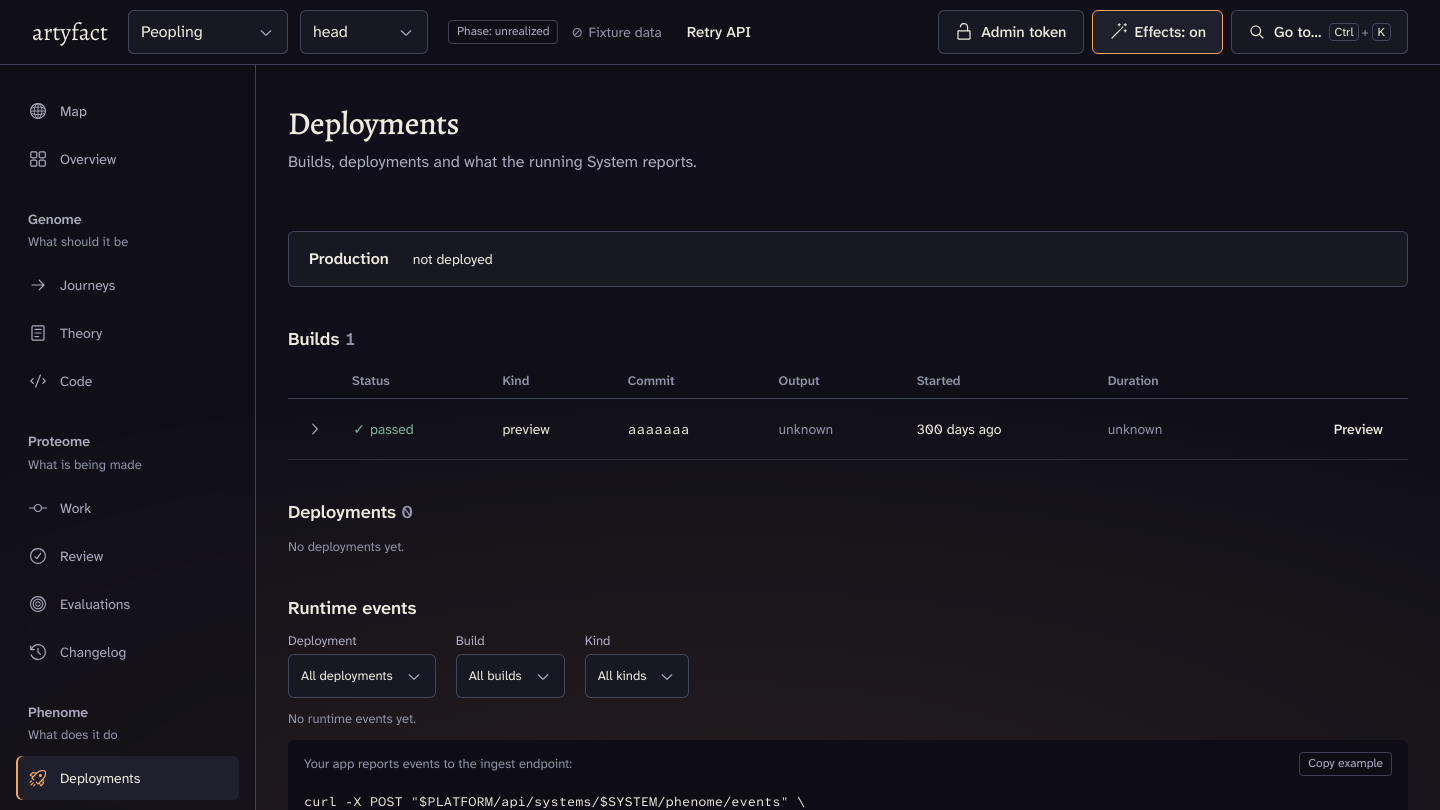
Test case: Deployments page › lists builds with steps, a safe preview link and the candidate
The width and height of the screenshot is (1440, 810).
Click the button named "Details of build.1" at (314, 429), box [292,407,336,451]
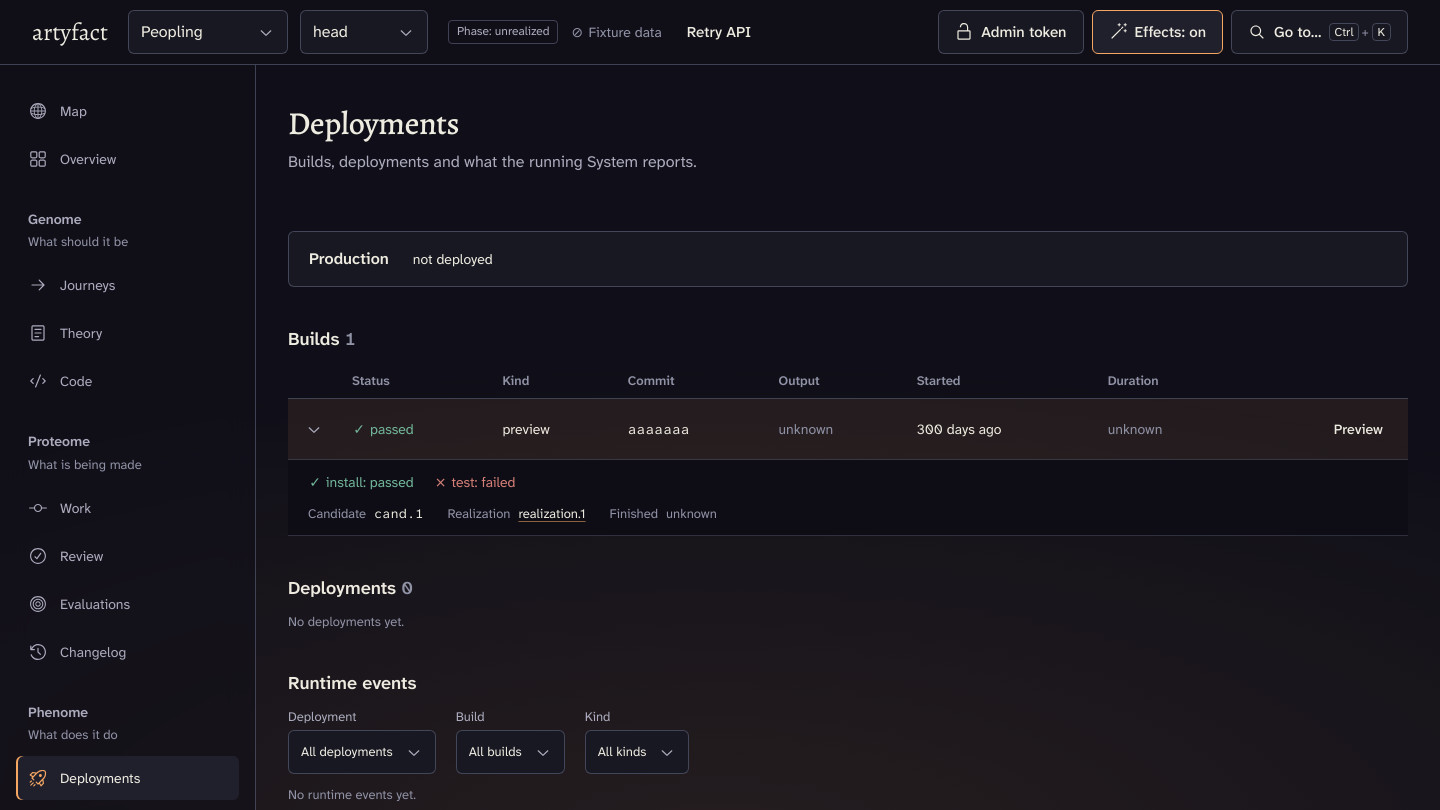
Result: the text "install: passed" is shown at [308,472,414,493]
Result: the text "test: failed" is shown at [434,472,516,493]
Result: the text "cand.1" is shown at [374,505,423,522]
